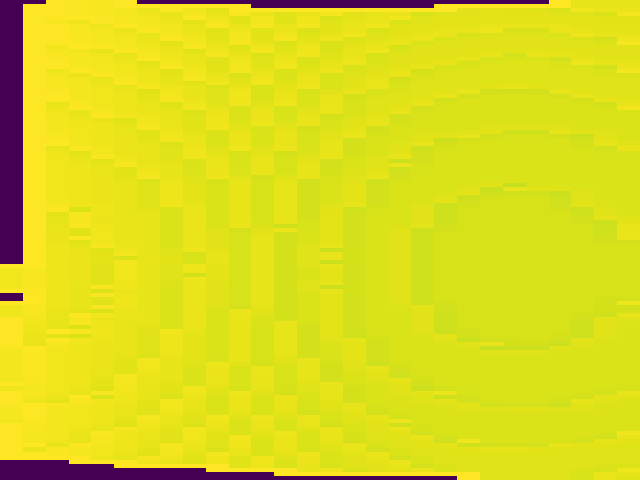cube: (3, 1, 640, 480)
